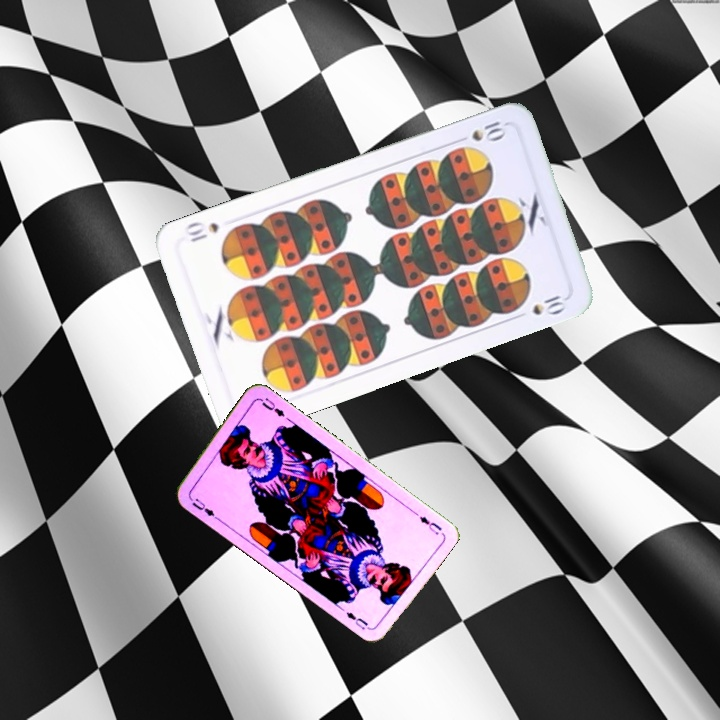EU: (186, 493, 221, 522), (415, 512, 445, 537)
S10: (467, 117, 509, 144)
